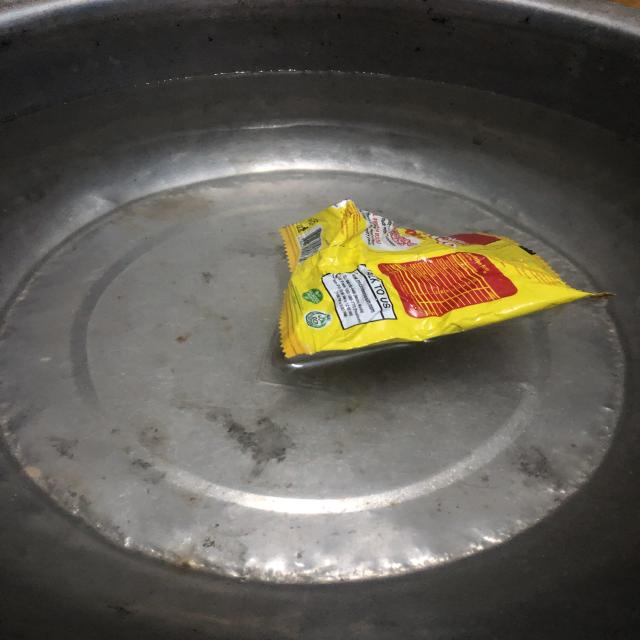Plastic Wrapper: (271, 199, 604, 378)
